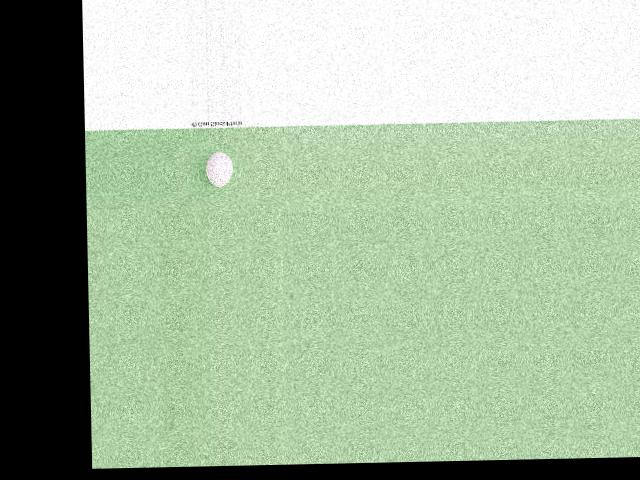egg: (206, 151, 233, 187)
